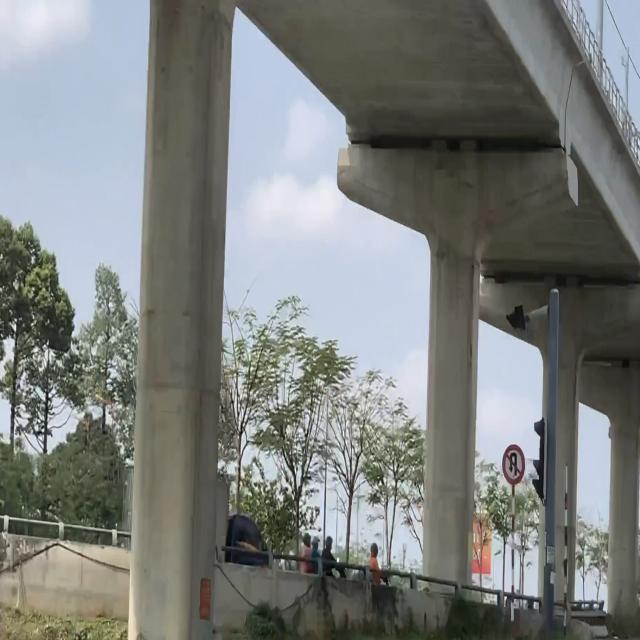Cam quay dau xe: (501, 443, 526, 486)
